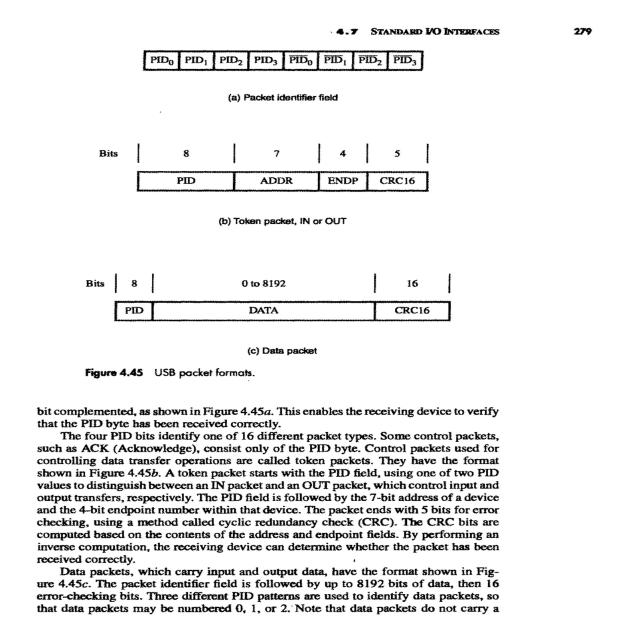diagram: (54, 45, 534, 386)
